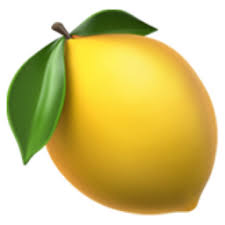lemon: (24, 23, 225, 217)
